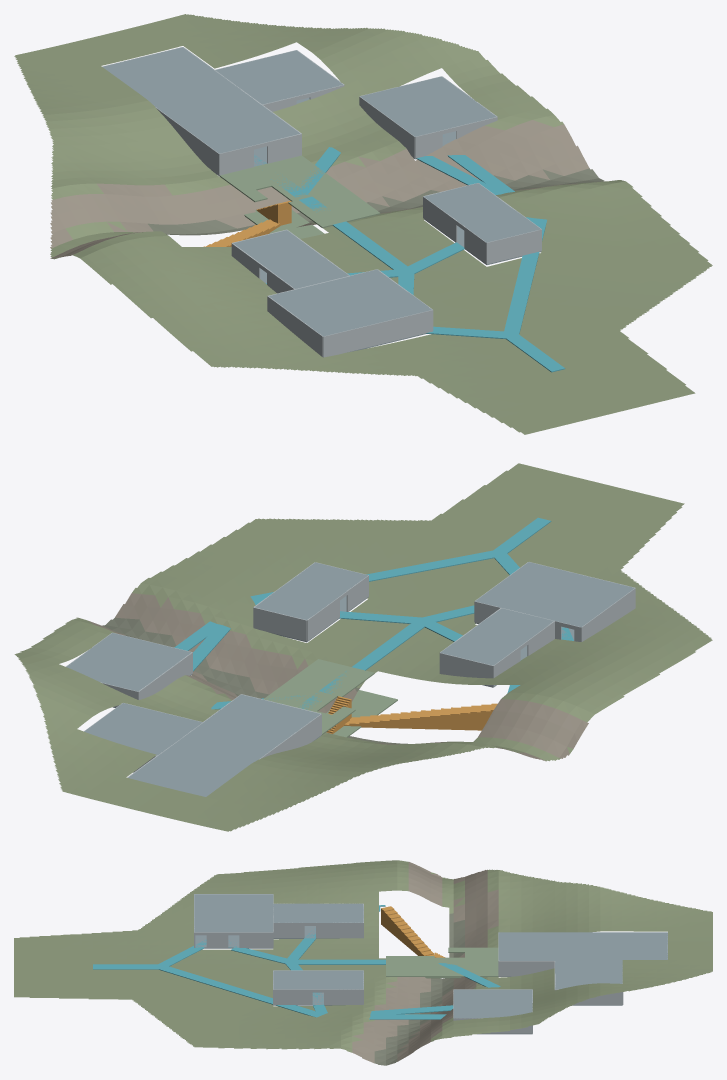
The model's file is terrain-assembly.glb.
3 renders of one model, top to bottom at view 1: azimuth 30°, elevation 25°; view 2: azimuth 150°, elevation 25°; view 3: azimuth 270°, elevation 25°, orthographic. The views are drawn at different scales.
Parts seen in each view (by area): view 1: Saved editor macroterrain WLD-12, Ceiling cap tunnel, Ceiling cap signal, Ceiling cap store, Ceiling cap refuge, Ceiling cap coach-b, Ceiling cap coach-a, Wall signal S, Floor trestle.008, L04 support 0, Floor trestle.005, Wall coach-b S (+10 smaller); view 2: Saved editor macroterrain WLD-12, Ceiling cap tunnel, Ceiling cap signal, Ceiling cap store, Ceiling cap refuge, Ceiling cap coach-b, Ceiling cap coach-a, Floor trestle.008, L04 support 0, Wall coach-b N, Floor lower, Wall signal W (+8 smaller); view 3: Saved editor macroterrain WLD-12, Ceiling cap tunnel, Ceiling cap signal, Ceiling cap store, Ceiling cap coach-b, Ceiling cap coach-a, Ceiling cap refuge, L04 support 0, Floor trestle.008, Wall coach-a E, Wall tunnel E.001, Wall coach-b E (+14 smaller).
Boxes of the visible parts, x1,y1,x2,y2 form: Saved editor macroterrain WLD-12: [14, 14, 712, 434]; Ceiling cap tunnel: [102, 47, 299, 153]; Ceiling cap signal: [269, 269, 432, 336]; Ceiling cap store: [360, 76, 496, 136]; Ceiling cap refuge: [215, 50, 342, 104]; Ceiling cap coach-b: [424, 183, 540, 242]; Ceiling cap coach-a: [233, 230, 349, 288]; Wall signal S: [323, 310, 432, 357]; Floor trestle.008: [293, 188, 380, 226]; L04 support 0: [503, 218, 546, 335]; Floor trestle.005: [248, 155, 324, 185]; Wall coach-b S: [486, 229, 541, 264]; Saved editor macroterrain WLD-12: [14, 463, 712, 831]; Ceiling cap tunnel: [128, 694, 320, 796]; Ceiling cap signal: [475, 562, 634, 627]; Ceiling cap store: [66, 633, 191, 691]; Ceiling cap refuge: [84, 703, 202, 755]; Ceiling cap coach-b: [255, 562, 367, 619]; Ceiling cap coach-a: [440, 608, 553, 665]; Floor trestle.008: [285, 659, 369, 695]; L04 support 0: [250, 550, 501, 602]; Wall coach-b N: [253, 607, 306, 641]; Floor lower: [319, 690, 397, 737]; Wall signal W: [581, 588, 635, 641]; Saved editor macroterrain WLD-12: [14, 860, 712, 1065]; Ceiling cap tunnel: [498, 932, 667, 960]; Ceiling cap signal: [194, 894, 273, 932]; Ceiling cap store: [453, 989, 532, 1018]; Ceiling cap coach-b: [273, 970, 363, 989]; Ceiling cap coach-a: [273, 903, 363, 922]; Ceiling cap refuge: [555, 961, 622, 989]; L04 support 0: [157, 965, 324, 1017]; Floor trestle.008: [386, 957, 434, 976]; Wall coach-a E: [316, 922, 363, 938]; Wall tunnel E.001: [498, 961, 554, 976]; Wall coach-b E: [324, 989, 363, 1004].
Bounding box in the file's own units: 75 × 10.11 × 124.
